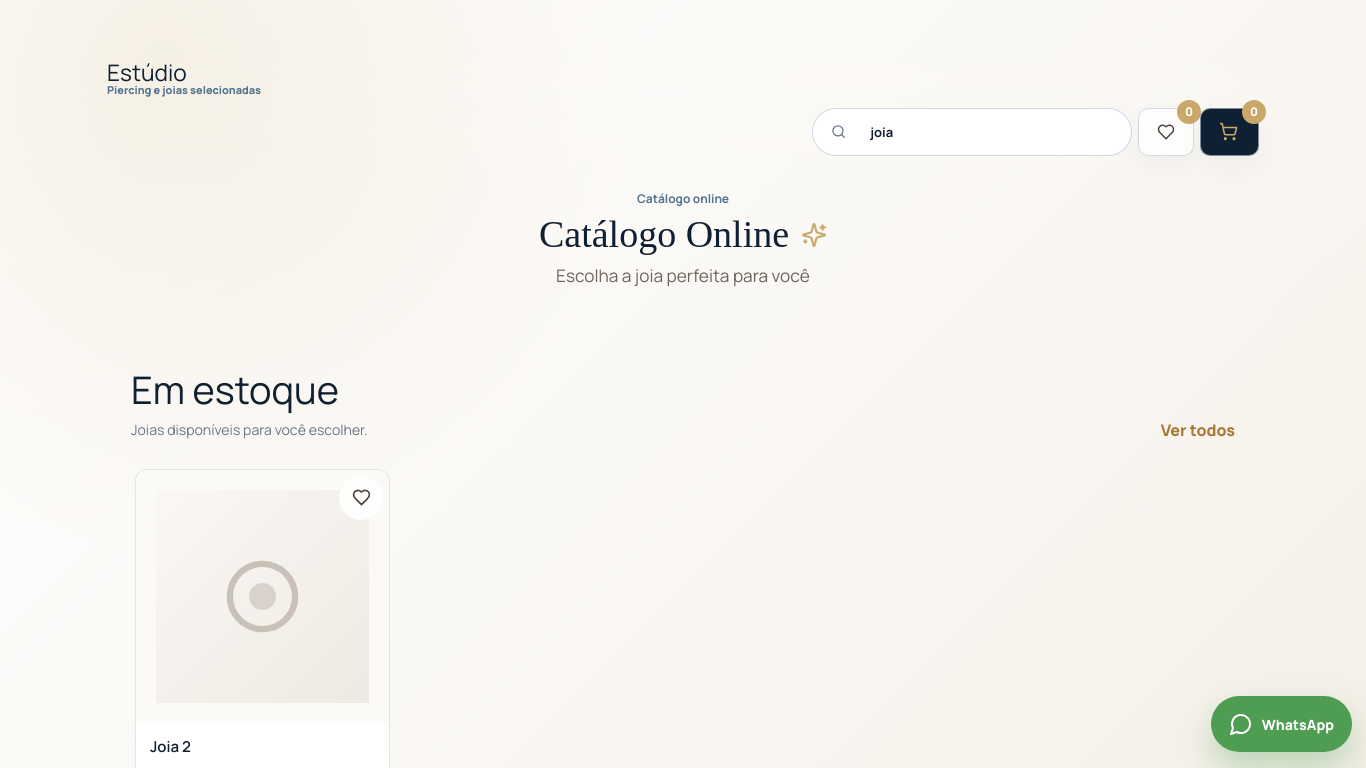
Test case: PublicCatalog › Ver todos mantém a categoria da seção e inclui suas joias esgotadas na grade completa
The width and height of the screenshot is (1366, 768).
Step 1. Click the link "Ver todos" → point(1198, 430), box [1161,419,1235,441]
(page scrolled)
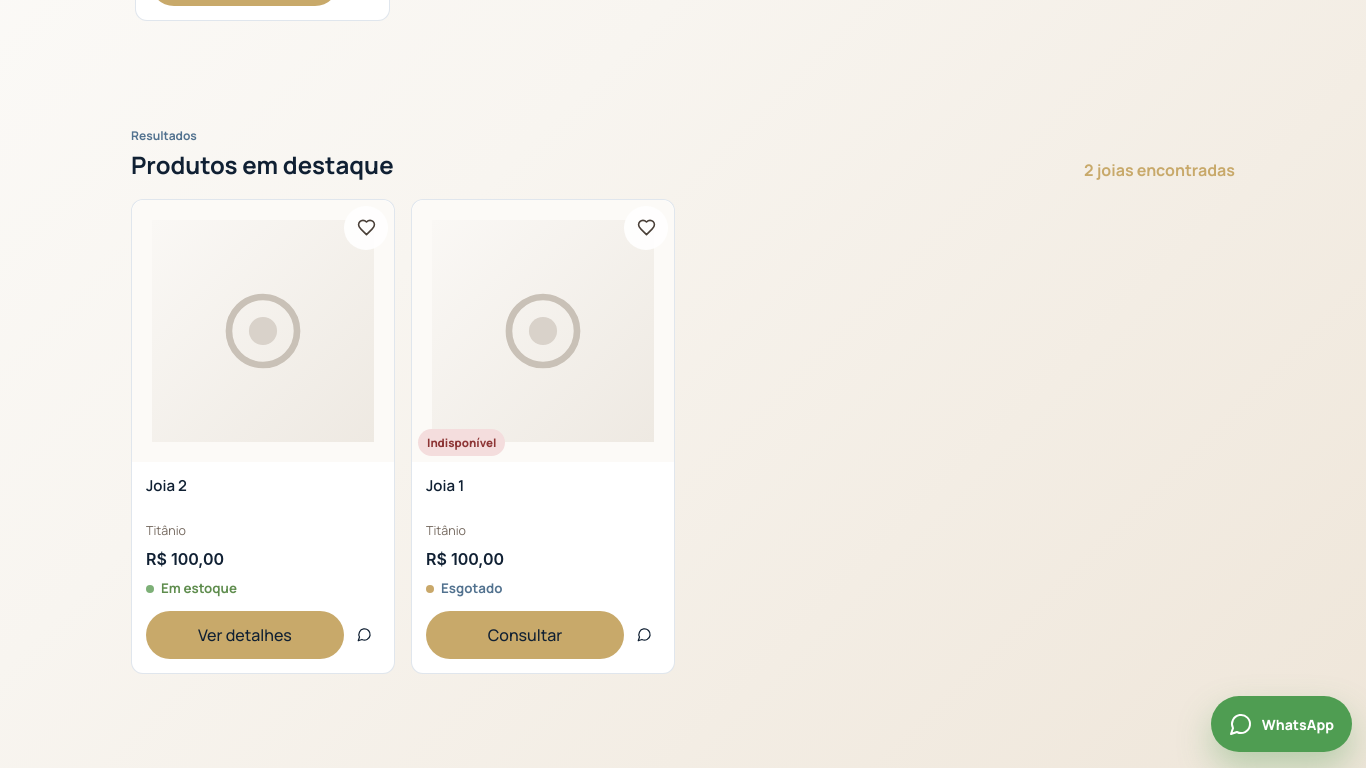
Check: the element with id "catalog-products" shows "Joia 1", box [426,476,660,496]
Check: the element with id "catalog-products" no longer shows "Joia 4", box [131,199,675,674]
